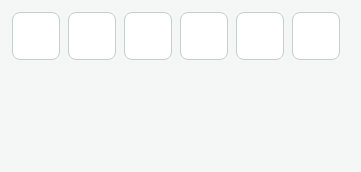
Test: OTPInput › keeps every digit when keystrokes arrive faster than re-renders
Type "8" into the field named "Digit 1 of 6" at (36, 36), box [12,12,60,60]
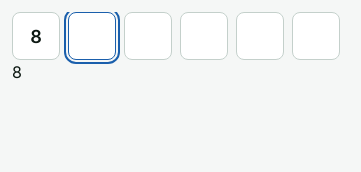
Type "7" into the field named "Digit 2 of 6" at (92, 36), box [68,12,116,60]
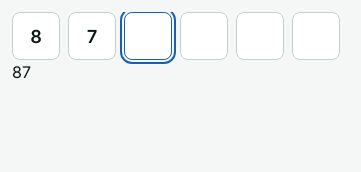
Type "3" into the field named "Digit 3 of 6" at (148, 36), box [124,12,172,60]
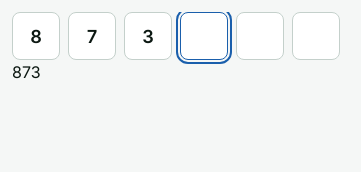
Type "9" into the field named "Digit 4 of 6" at (204, 36), box [180,12,228,60]
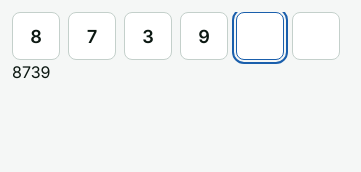
Type "1" into the field named "Digit 5 of 6" at (260, 36), box [236,12,284,60]
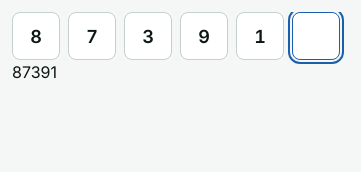
Type "9" into the field named "Digit 6 of 6" at (316, 36), box [292,12,340,60]
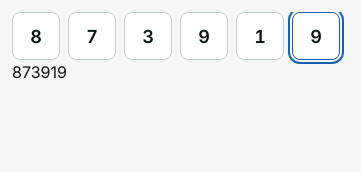
expect the text with test id "value" reads "873919": met, box [12,62,67,82]
